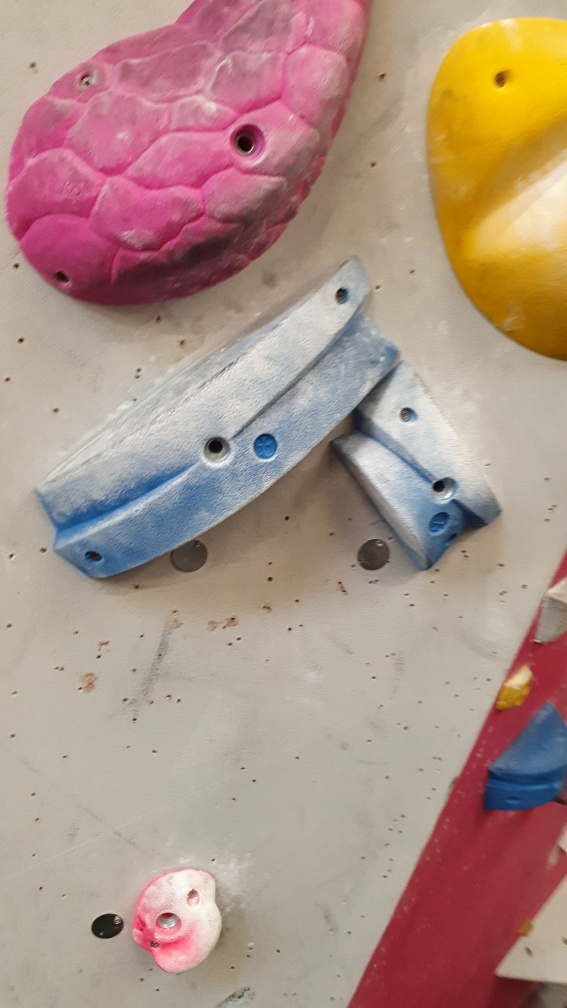Hand Start: (171, 538, 214, 577), (355, 537, 395, 574), (91, 908, 125, 945)
Pinch: (36, 259, 401, 582), (331, 370, 503, 562), (481, 698, 567, 816)
